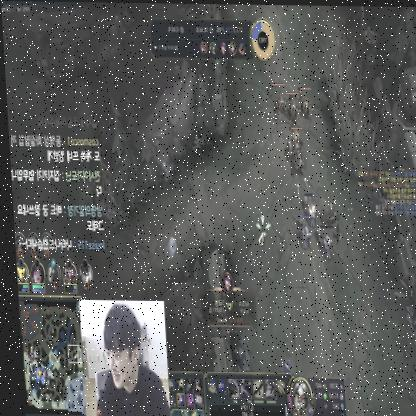streamer: (84, 301, 163, 416)
